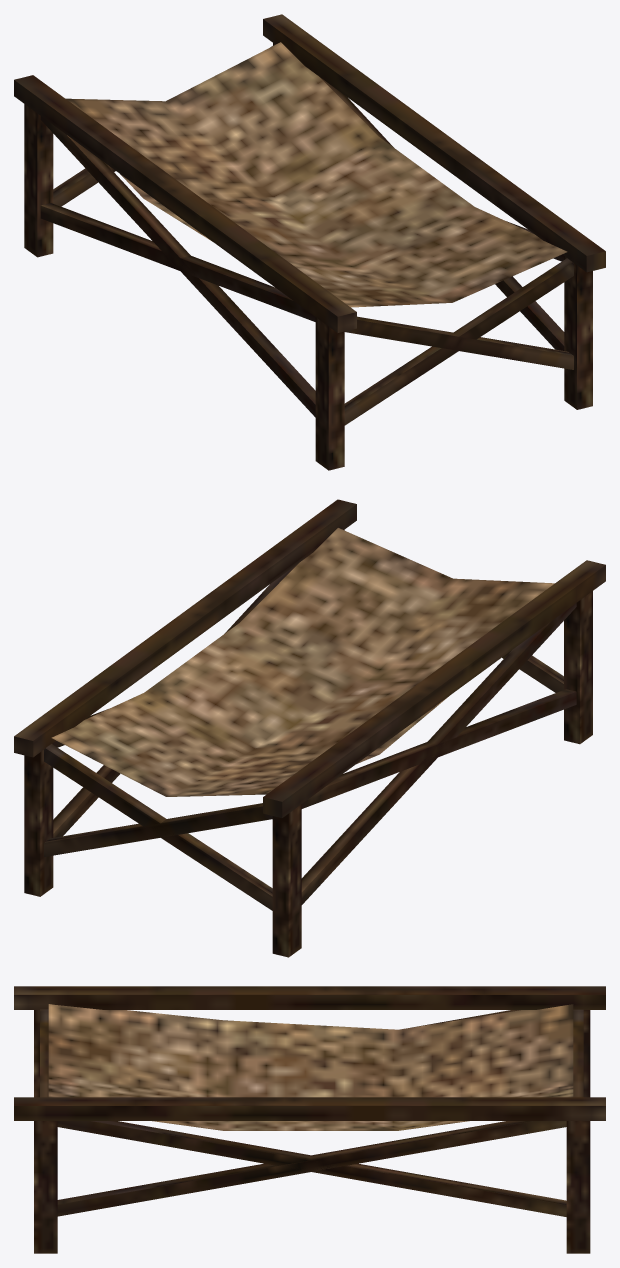
Rendered from general_obj_woodbed.glb.
The picture shows the model from 3 angles, top to bottom: view 1: azimuth 30°, elevation 25°; view 2: azimuth 150°, elevation 25°; view 3: azimuth 270°, elevation 25°; orthographic projection. The views are drawn at different scales.
Visible parts, largest first — view 1: Object25; view 2: Object25; view 3: Object25.
Part boxes in pixels (x1,y1,x2,y2): Object25: (14,14,605,470); Object25: (14,499,605,957); Object25: (14,986,605,1253).
Size of the model in its own units: 1.22 by 0.7064 by 2.55.
Materials: 1 (1 with a texture image).
